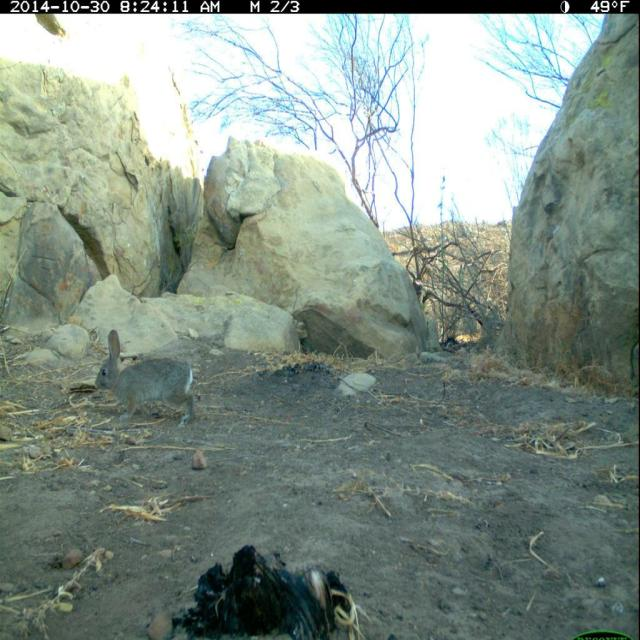rabbit: (91, 326, 198, 434)
